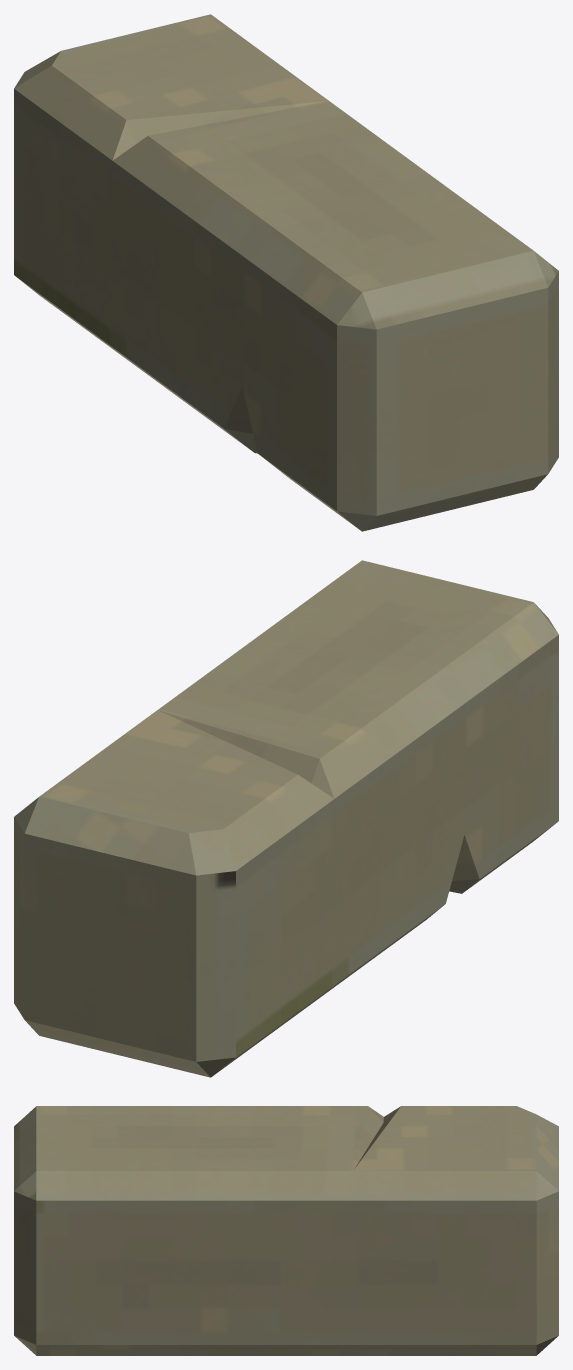
The model's file is Brick_2.fbx.
The picture shows the model from 3 angles, top to bottom: view 1: azimuth 30°, elevation 25°; view 2: azimuth 150°, elevation 25°; view 3: azimuth 270°, elevation 25°; orthographic projection. The views are drawn at different scales.
Parts seen in each view (by area): view 1: Brick_2; view 2: Brick_2; view 3: Brick_2.
Boxes of the visible parts, <box> form: Brick_2: <box>14,14,558,531</box>; Brick_2: <box>14,560,558,1077</box>; Brick_2: <box>14,1106,558,1355</box>.
Size of the model in its own units: 77.56 by 79.82 by 213.
